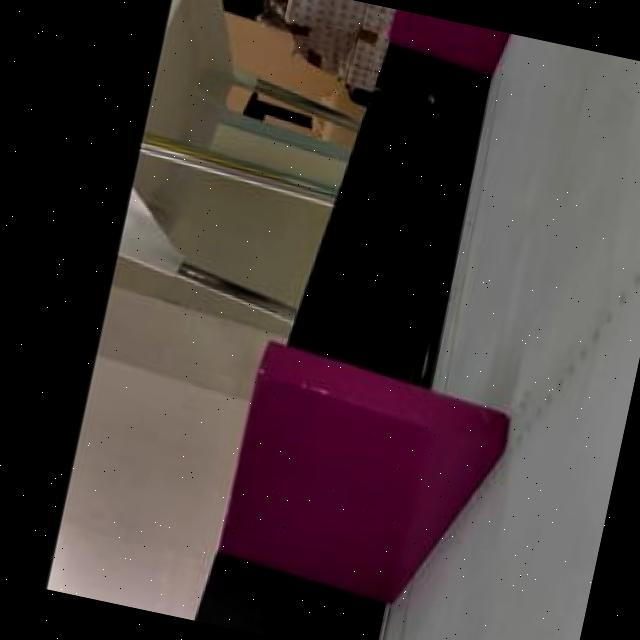xparking: (218, 340, 518, 602), (384, 8, 510, 70)
